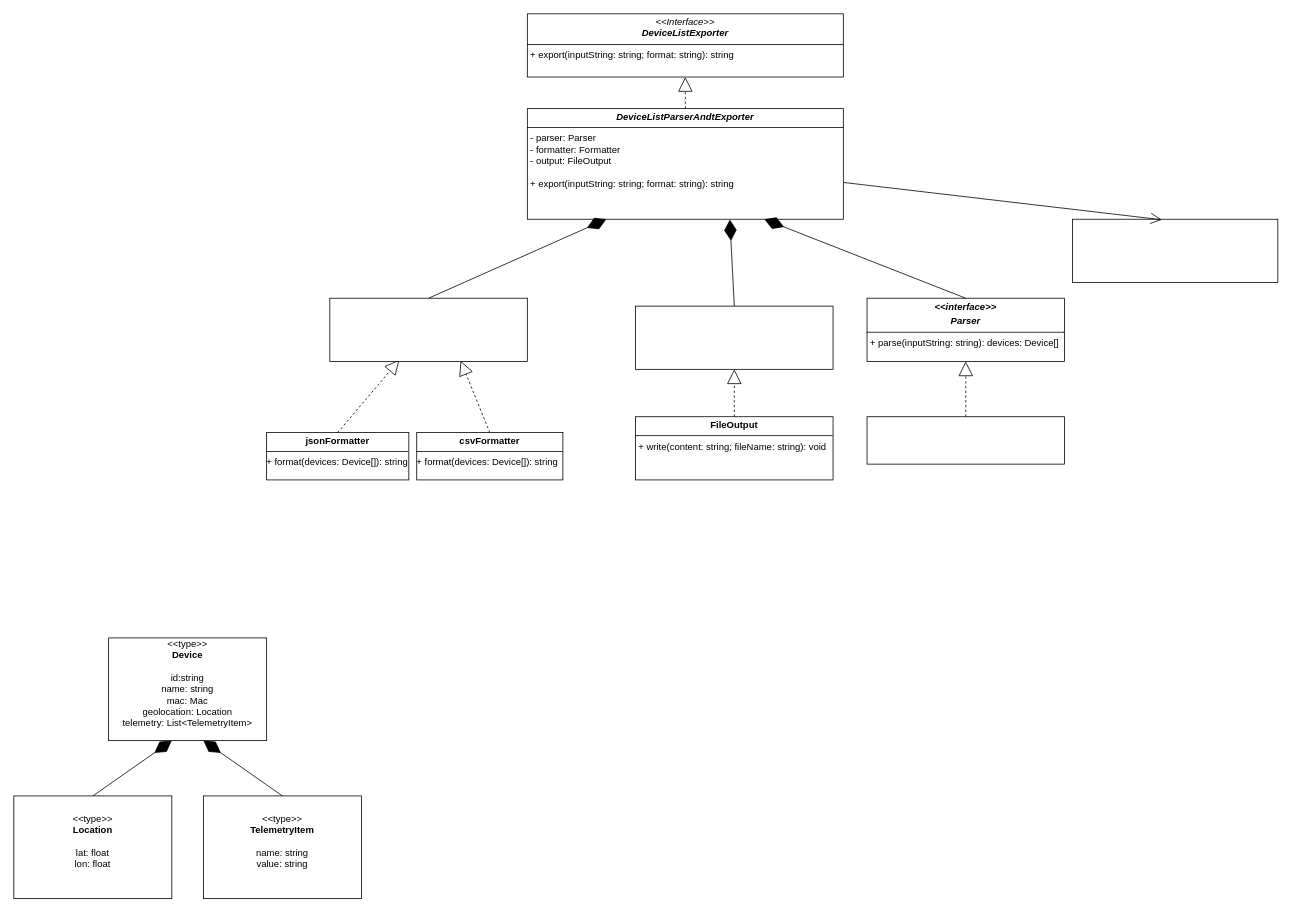
Some shapes in this 1292 by 912 pixel diagram are drawn without their labels. Here are the shapes that lost their labels. From the top down, the centre of each, then its label:
At [1175,250]: "ErrorHandle + validate(inputString: string): string".
At [428,329]: "<<interface>> Formatter + format(devices: Device[]): string".
At [734,337]: "<<interface>> Output + write(content: string; fileName: string): void".
At [965,440]: "jsonStringParcer + parse(inputString: string): Device[]".
